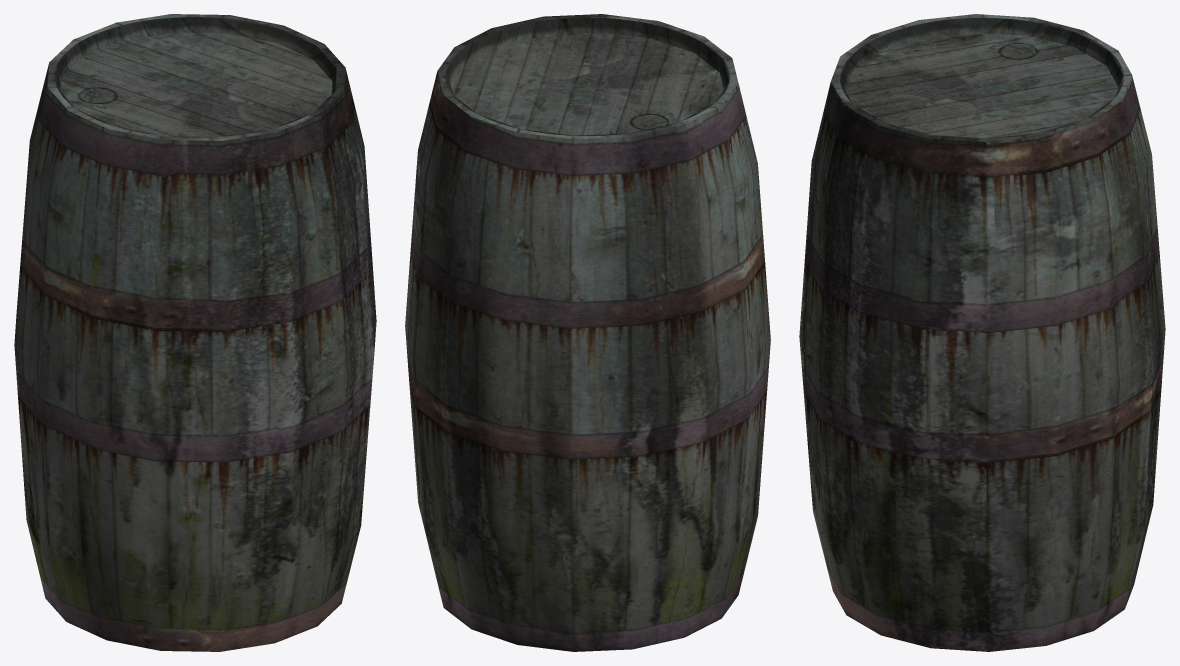
File: Barrel_LOD01.fbx
3 renders of one model, left to right at view 1: azimuth 30°, elevation 25°; view 2: azimuth 150°, elevation 25°; view 3: azimuth 270°, elevation 25°, orthographic.
Visible parts, largest first — view 1: Mesh Object; view 2: Mesh Object; view 3: Mesh Object.
Part boxes in pixels (<box>): Mesh Object: <box>14,14,376,651</box>; Mesh Object: <box>405,14,770,651</box>; Mesh Object: <box>799,14,1165,651</box>.
Size of the model in its own units: 0.7084 by 1.09 by 0.7084.
